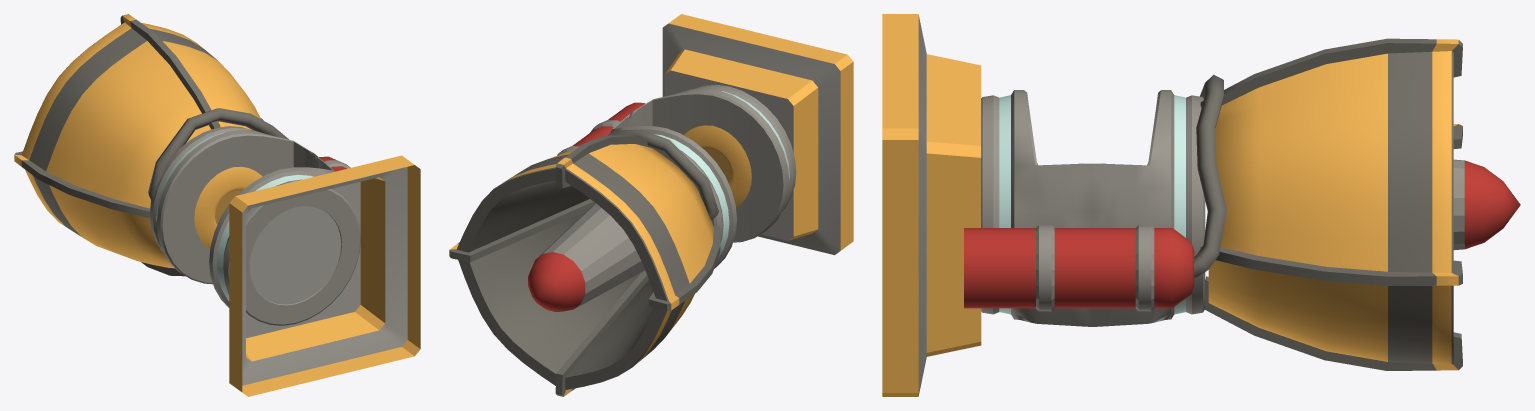
Rendered from Thruster 1.FBX.
3 renders of one model, left to right at view 1: azimuth 30°, elevation 25°; view 2: azimuth 150°, elevation 25°; view 3: azimuth 270°, elevation 25°, orthographic. The views are drawn at different scales.
Parts seen in each view (by area): view 1: Object001; view 2: Object001; view 3: Object001.
Boxes of the visible parts, x1,y1,x2,y2 form: Object001: (14,14,420,396); Object001: (449,14,853,396); Object001: (882,14,1520,396).
Bounding box in the file's own units: 1.2 × 1.16 × 2.04.
